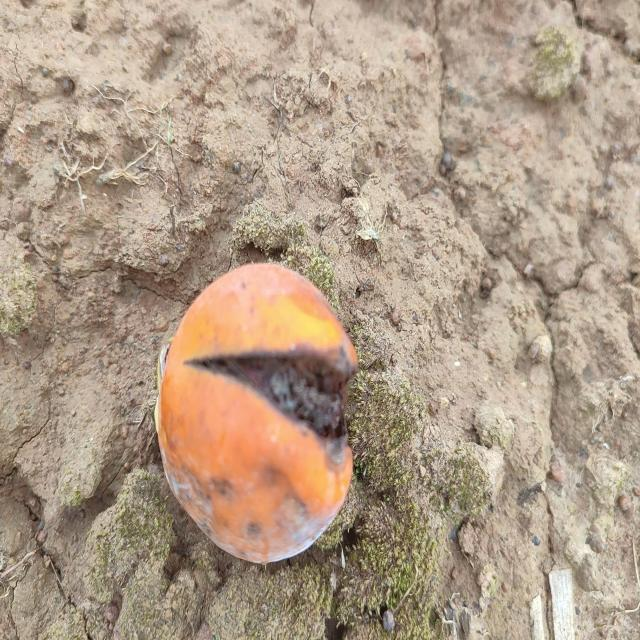damaged: (157, 262, 359, 568)
